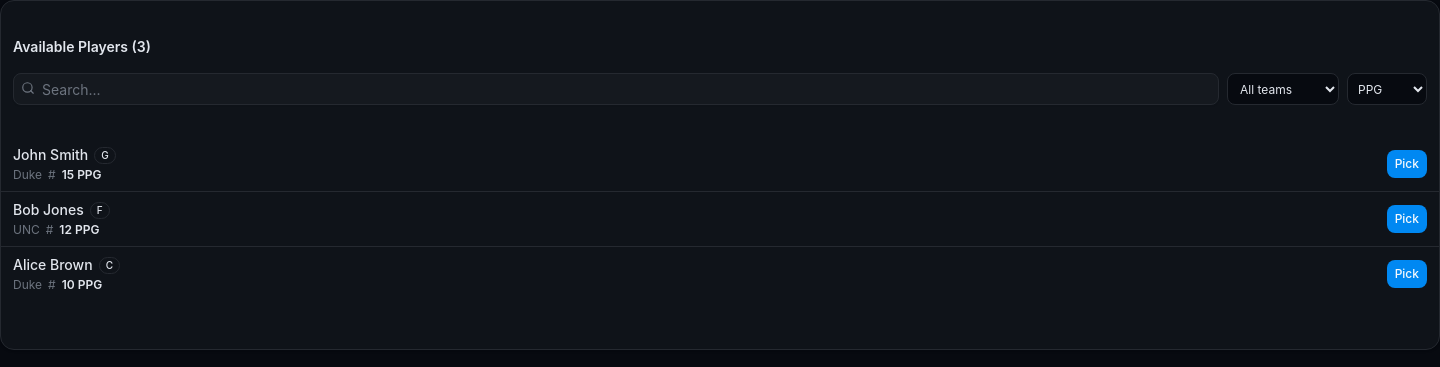
Test: PlayerList › filters players by name via the search input
The width and height of the screenshot is (1440, 367).
Expected: the text "John Smith" is shown, [13,145,88,165]
Type "bob" into the field with placeholder "Search..." at x=616, y=89, box [13,73,1219,105]
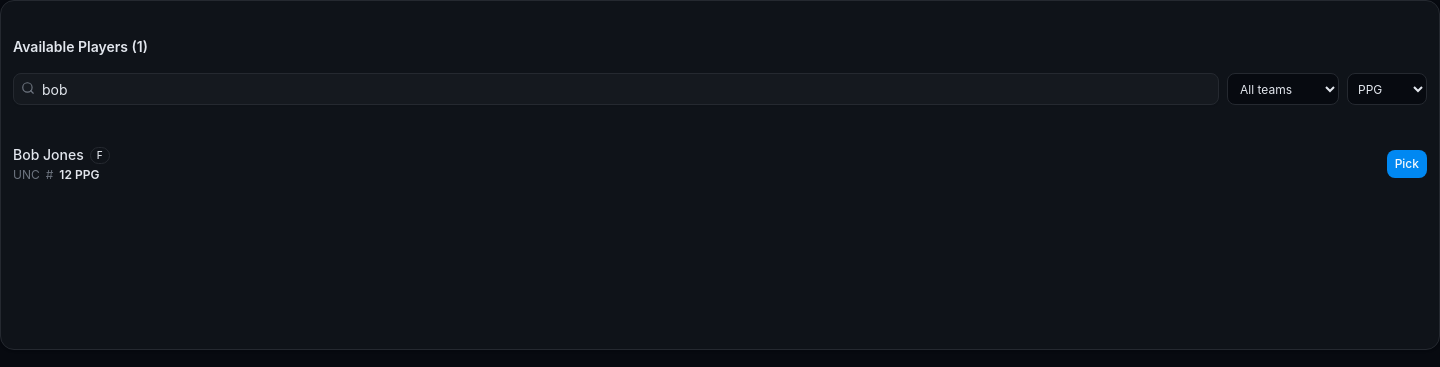
Expected: the text "Bob Jones" is shown, [13,145,84,165]
Now the text "John Smith" is gone
